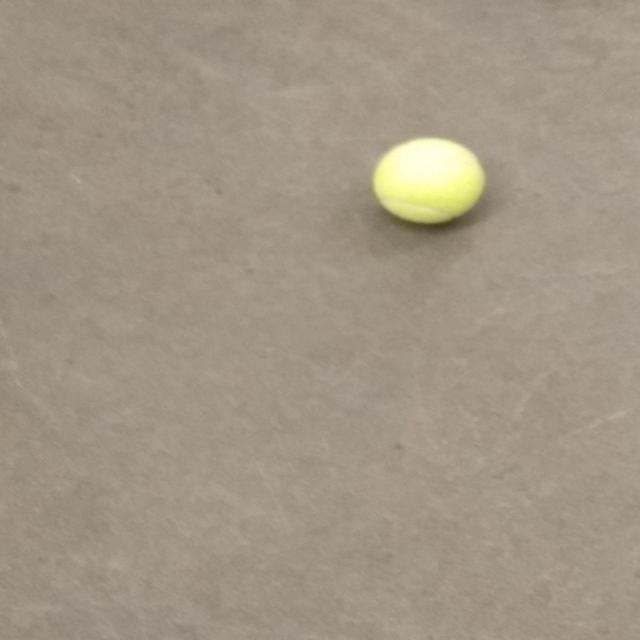ball: (365, 134, 499, 228)
